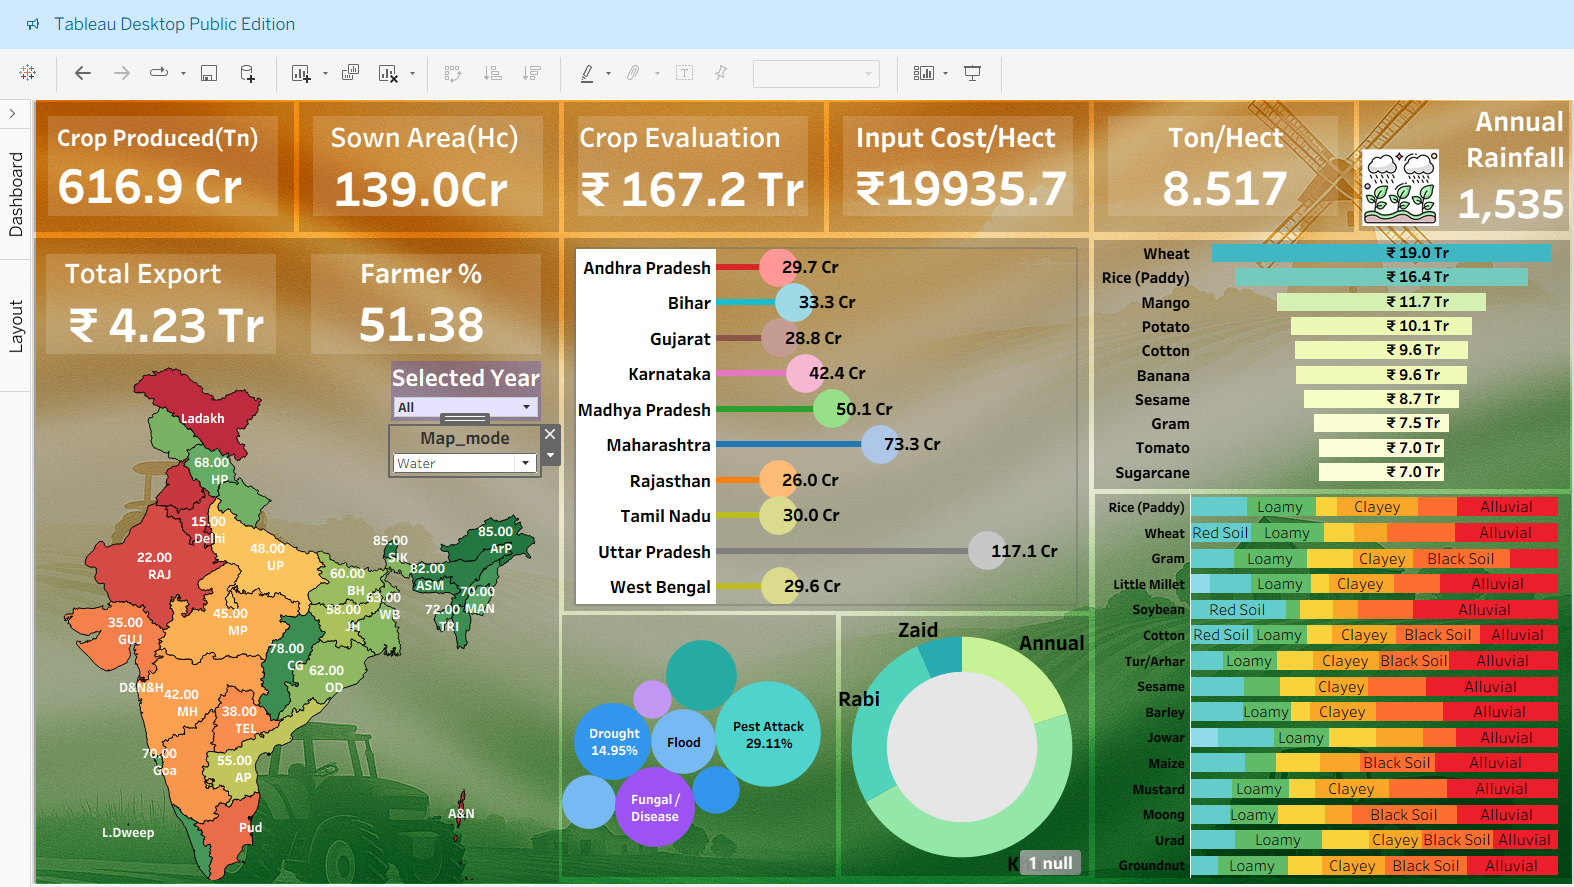

The dashboard page shown, as its layout file describes it:
{"tool":"tableau","page":{"name":"India Summary","canvas":[1980,800],"ordinal":0},"visuals":[{"type":"blank","box":[1328,2,210,130]},{"type":"blank","box":[3,3,260,130]},{"type":"blank","box":[268,3,260,130]},{"type":"blank","box":[533,3,260,130]},{"type":"blank","box":[798,3,260,130]},{"type":"blank","box":[1063,3,260,130]},{"type":"worksheet","title":"Sheet 16","mark":"Automatic","box":[1328,3,210,128]},{"type":"blank","box":[7,7,250,120]},{"type":"blank","box":[272,7,250,120]},{"type":"blank","box":[537,7,250,120]},{"type":"blank","box":[802,7,250,120]},{"type":"blank","box":[1067,7,250,120]},{"type":"worksheet","title":"Sheet 2","mark":"Text","box":[12,15,240,110]},{"type":"worksheet","title":"Sheet 11","mark":"Text","box":[278,15,240,110]},{"type":"worksheet","title":"Sheet 4","mark":"Text","box":[544,15,240,110]},{"type":"worksheet","title":"Sheet 8","mark":"Text","box":[809,15,240,110]},{"type":"worksheet","title":"Sheet 7","mark":"Text","box":[1075,15,240,110]},{"type":"image","param":"C:/Users/jaija/Downloads/OIP (8).jpg","box":[1331,50,77,80]},{"type":"blank","box":[3,139,525,645]},{"type":"blank","box":[533,139,525,373]},{"type":"blank","box":[1063,141,476,249]},{"type":"worksheet","title":"Sheet 10","mark":"Bar","rows":["Crop"],"cols":["Output_value","Calculation_257831089168302081"],"box":[1064,142,473,243]},{"type":"blank","box":[5,145,250,120]},{"type":"blank","box":[270,145,250,120]},{"type":"worksheet","title":"Sheet 9","mark":"Bar","rows":["State (Dim!State)"],"cols":["Production_tonnes","Production tonnes (copy)_1060316247261949956"],"box":[545,150,500,355]},{"type":"worksheet","title":"Sheet 5","mark":"Text","box":[12,151,230,110]},{"type":"worksheet","title":"Sheet 17","mark":"Text","box":[276,151,230,110]},{"type":"worksheet","title":"Sheet 1","mark":"Multipolygon","box":[9,261,509,520]},{"type":"parameter","param":"[Parameters].[Parameter 2]","box":[360,262,150,60]},{"type":"parameter","param":"[Parameters].[Parameter 3]","box":[359,327,150,50]},{"type":"worksheet","title":"Sheet 18","mark":"Automatic","rows":["Crop"],"box":[1059,395,486,384]},{"type":"blank","box":[1064,395,476,384]},{"type":"worksheet","title":"Sheet 13","mark":"Circle","box":[530,510,260,270]},{"type":"worksheet","title":"Sheet 12","mark":"Pie","cols":["Calculation_558446364007690257","Calculation_558446364007690257"],"box":[807,515,248,266]},{"type":"blank","box":[531,516,274,262]},{"type":"blank","box":[810,517,248,260]}]}

Visuals, with their boxes on the page's 1980x800 design canvas (x1, y1, x2, y2). These are canvas units, not pixel positions in the 1574x887 screenshot, which may show the page scaled, cropped or inside an application window:
blank: <region>1328, 2, 1538, 132</region>
blank: <region>3, 3, 263, 133</region>
blank: <region>268, 3, 528, 133</region>
blank: <region>533, 3, 793, 133</region>
blank: <region>798, 3, 1058, 133</region>
blank: <region>1063, 3, 1323, 133</region>
"Sheet 16" worksheet: <region>1328, 3, 1538, 131</region>
blank: <region>7, 7, 257, 127</region>
blank: <region>272, 7, 522, 127</region>
blank: <region>537, 7, 787, 127</region>
blank: <region>802, 7, 1052, 127</region>
blank: <region>1067, 7, 1317, 127</region>
"Sheet 2" worksheet (Text marks): <region>12, 15, 252, 125</region>
"Sheet 11" worksheet (Text marks): <region>278, 15, 518, 125</region>
"Sheet 4" worksheet (Text marks): <region>544, 15, 784, 125</region>
"Sheet 8" worksheet (Text marks): <region>809, 15, 1049, 125</region>
"Sheet 7" worksheet (Text marks): <region>1075, 15, 1315, 125</region>
image: <region>1331, 50, 1408, 130</region>
blank: <region>3, 139, 528, 784</region>
blank: <region>533, 139, 1058, 512</region>
blank: <region>1063, 141, 1539, 390</region>
"Sheet 10" worksheet (Bar marks): <region>1064, 142, 1537, 385</region>
blank: <region>5, 145, 255, 265</region>
blank: <region>270, 145, 520, 265</region>
"Sheet 9" worksheet (Bar marks): <region>545, 150, 1045, 505</region>
"Sheet 5" worksheet (Text marks): <region>12, 151, 242, 261</region>
"Sheet 17" worksheet (Text marks): <region>276, 151, 506, 261</region>
"Sheet 1" worksheet (Multipolygon marks): <region>9, 261, 518, 781</region>
parameter: <region>360, 262, 510, 322</region>
parameter: <region>359, 327, 509, 377</region>
"Sheet 18" worksheet: <region>1059, 395, 1545, 779</region>
blank: <region>1064, 395, 1540, 779</region>
"Sheet 13" worksheet (Circle marks): <region>530, 510, 790, 780</region>
"Sheet 12" worksheet (Pie marks): <region>807, 515, 1055, 781</region>
blank: <region>531, 516, 805, 778</region>
blank: <region>810, 517, 1058, 777</region>
